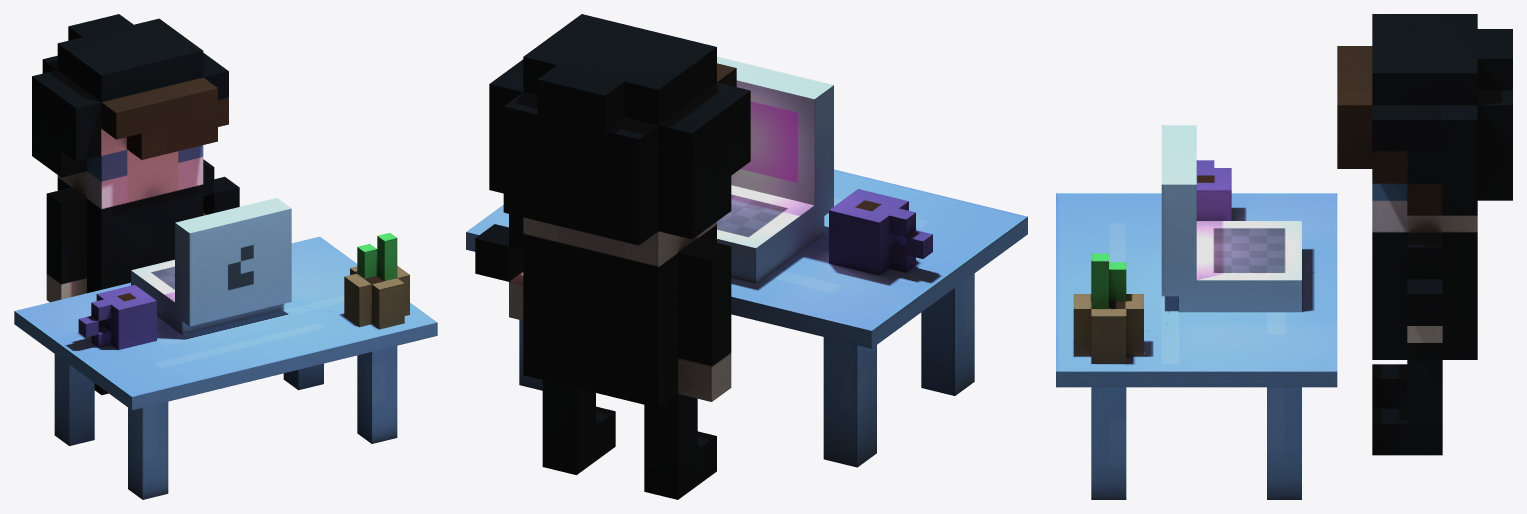
The picture shows the model from 3 angles, left to right: view 1: azimuth 30°, elevation 25°; view 2: azimuth 150°, elevation 25°; view 3: azimuth 270°, elevation 25°; orthographic projection. The views are drawn at different scales.
Parts seen in each view (by area): view 1: mewithdesk2.0; view 2: mewithdesk2.0; view 3: mewithdesk2.0.
Boxes of the visible parts, x1=… form: mewithdesk2.0: x1=14, y1=14, x2=437, y2=499; mewithdesk2.0: x1=466, y1=14, x2=1027, y2=499; mewithdesk2.0: x1=1056, y1=14, x2=1512, y2=499.
Size of what is drawn, in the model's own units: 4.5 by 4.5 by 4.88.
Materials: 1 (1 with a texture image).
